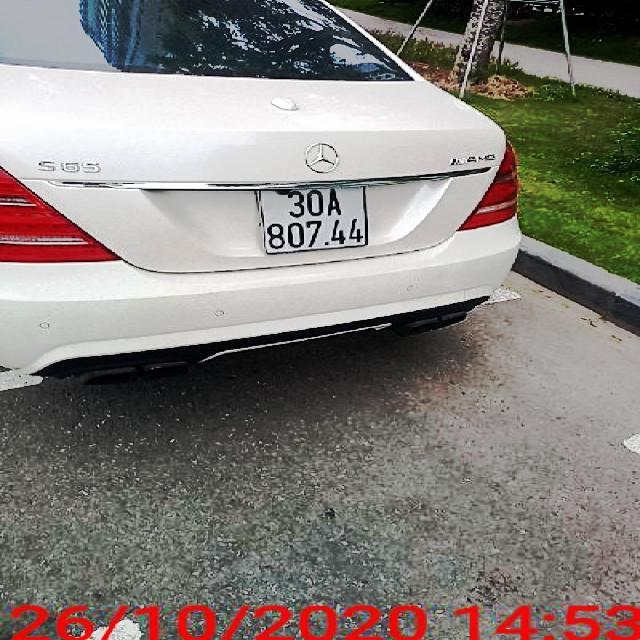license_plate: (258, 184, 370, 257)
